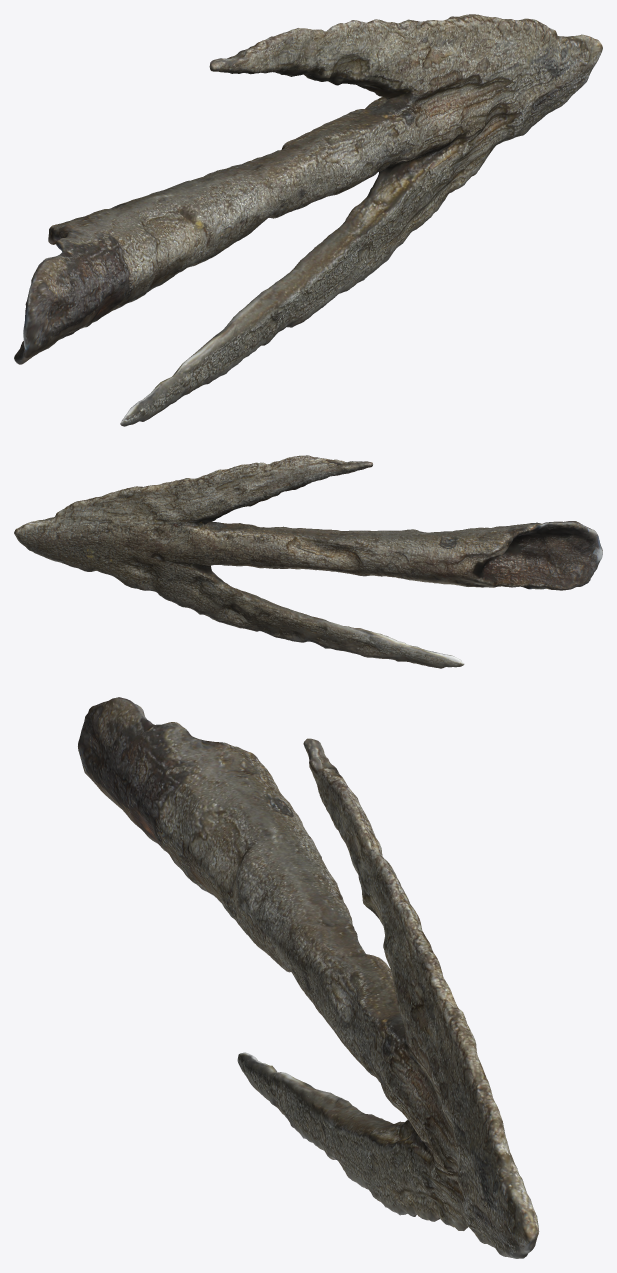
The model's file is Arrowhead.glb.
3 views of the same model, one above another, from view 1: azimuth 30°, elevation 25°; view 2: azimuth 150°, elevation 25°; view 3: azimuth 270°, elevation 25° (orthographic). The views are drawn at different scales.
Parts seen in each view (by area): view 1: Arrowhead_model1_scaled_textured; view 2: Arrowhead_model1_scaled_textured; view 3: Arrowhead_model1_scaled_textured.
Boxes of the visible parts, left/top/right/bottom form: Arrowhead_model1_scaled_textured: left=14, top=14, right=602, bottom=426; Arrowhead_model1_scaled_textured: left=14, top=455, right=602, bottom=668; Arrowhead_model1_scaled_textured: left=78, top=697, right=539, bottom=1258.
Size of the model in its own units: 0.1848 by 0.0752 by 0.0775.
Materials: 1 (1 with a texture image).
